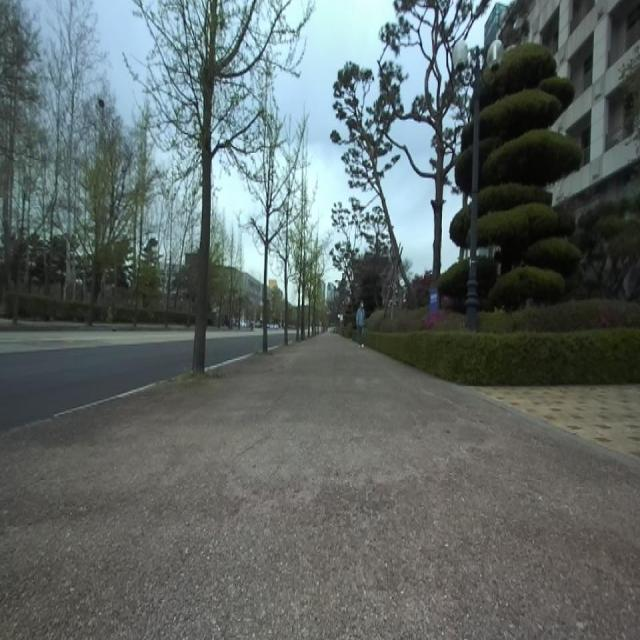sidewalk: (0, 335, 640, 640)
